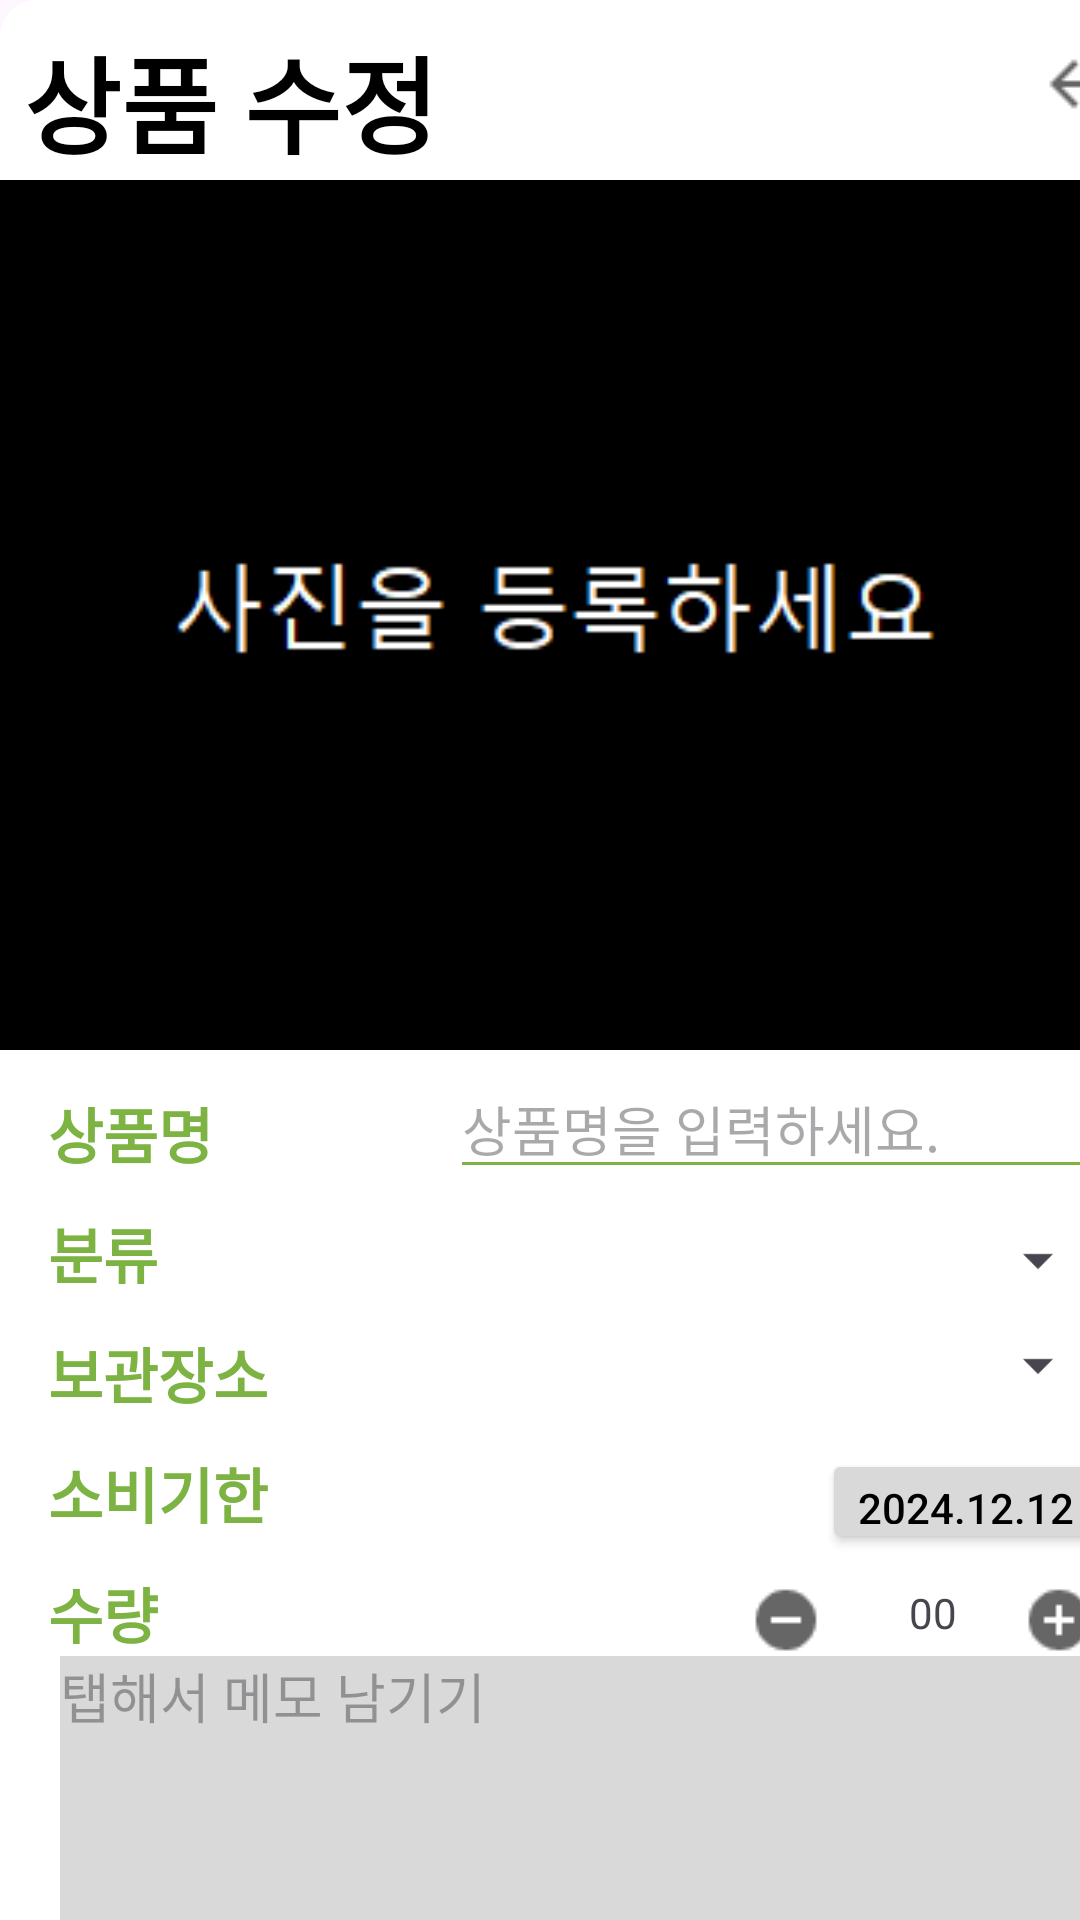

Icons on this 1080 × 1920 Android screen, each with the point to tap as point (x, y):
remove circle: point (786, 1620)
